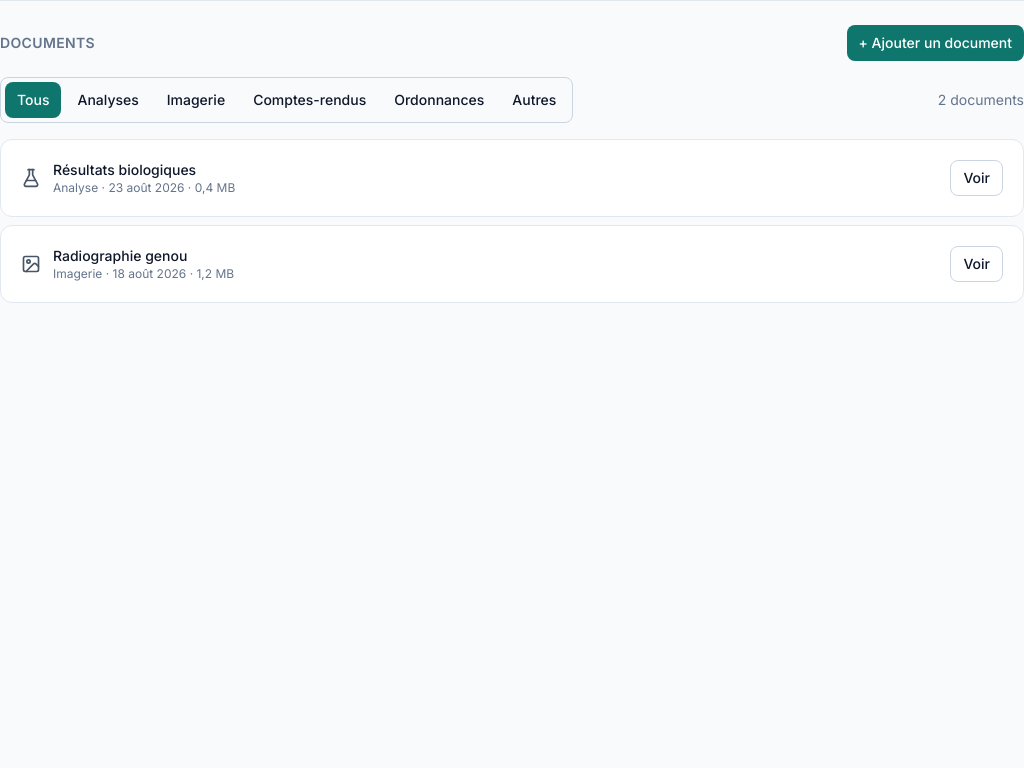
Test: DocumentsSection › opens the add-document form (7)
Click the button "+ Ajouter un document" at (935, 43), box [846, 25, 1023, 61]
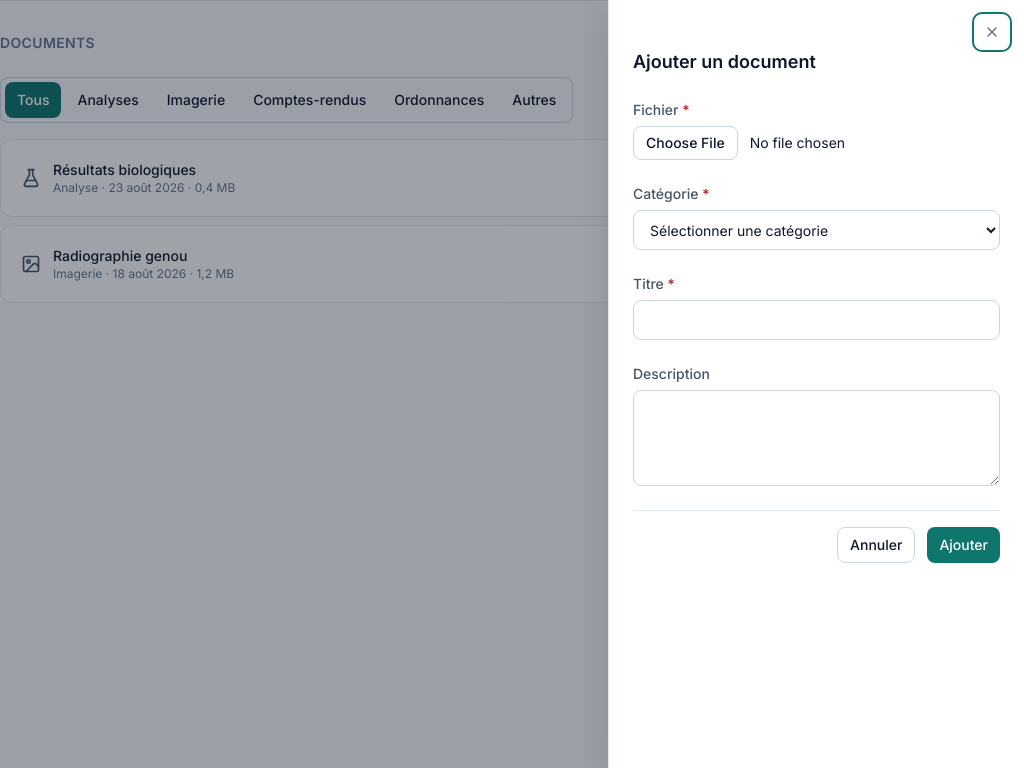
Expected: the dialog "Ajouter un document" is shown, [608, 0, 1023, 767]
